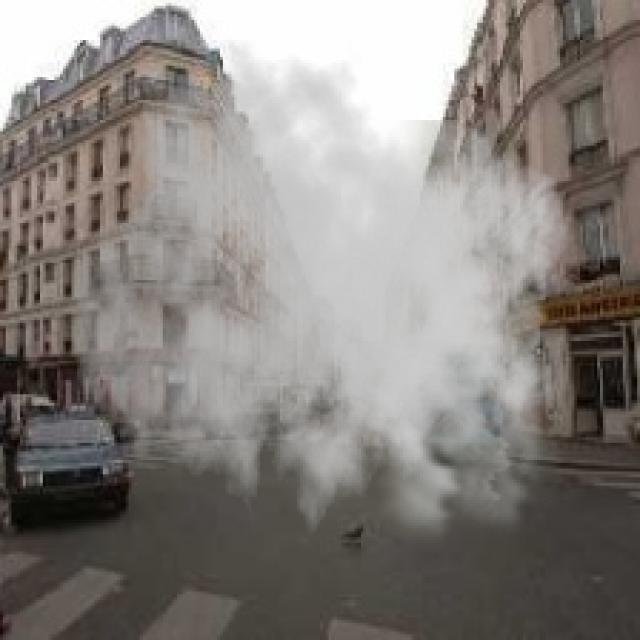Smoke: (69, 40, 586, 566)
